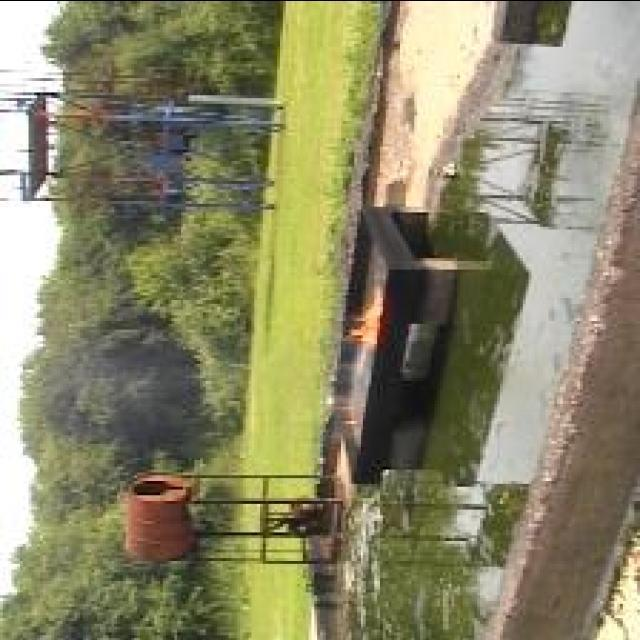Fire: (348, 287, 386, 347)
